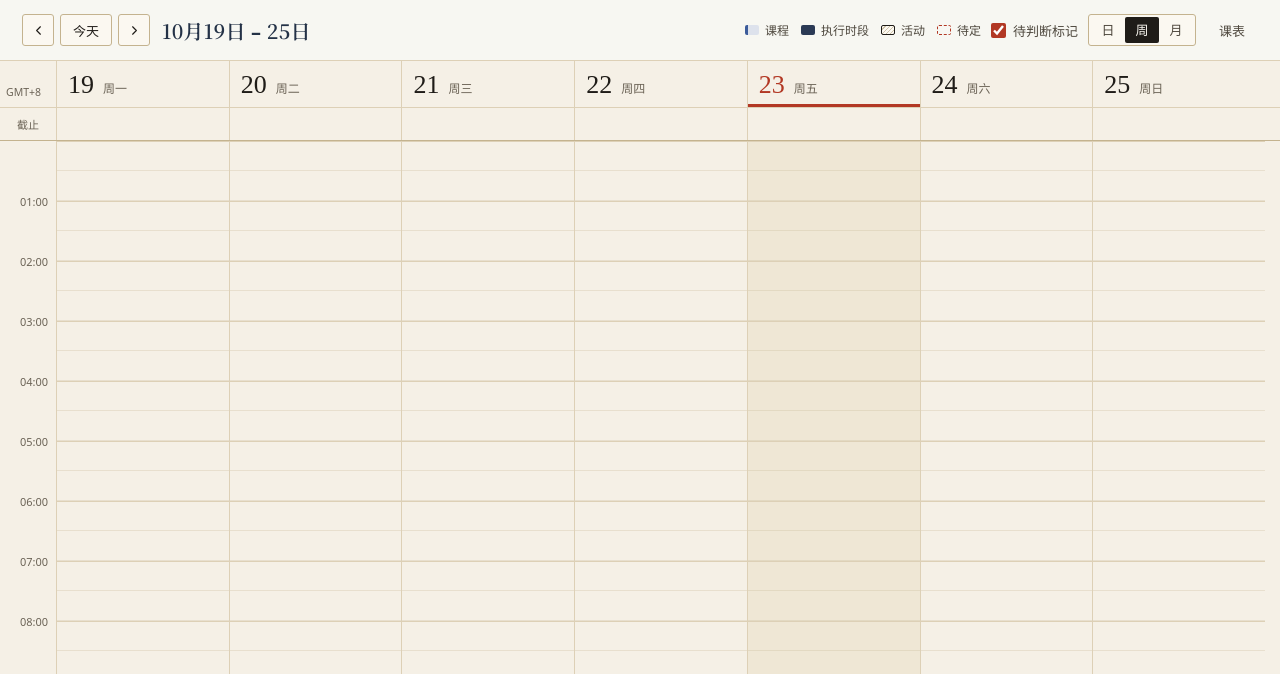
Scenario: personal calendar attention states › renders completed blocks and blocks belonging to completed tasks as quiet history
Click the button "月".
click(1176, 30)  # box 1159,17 -> 1193,43
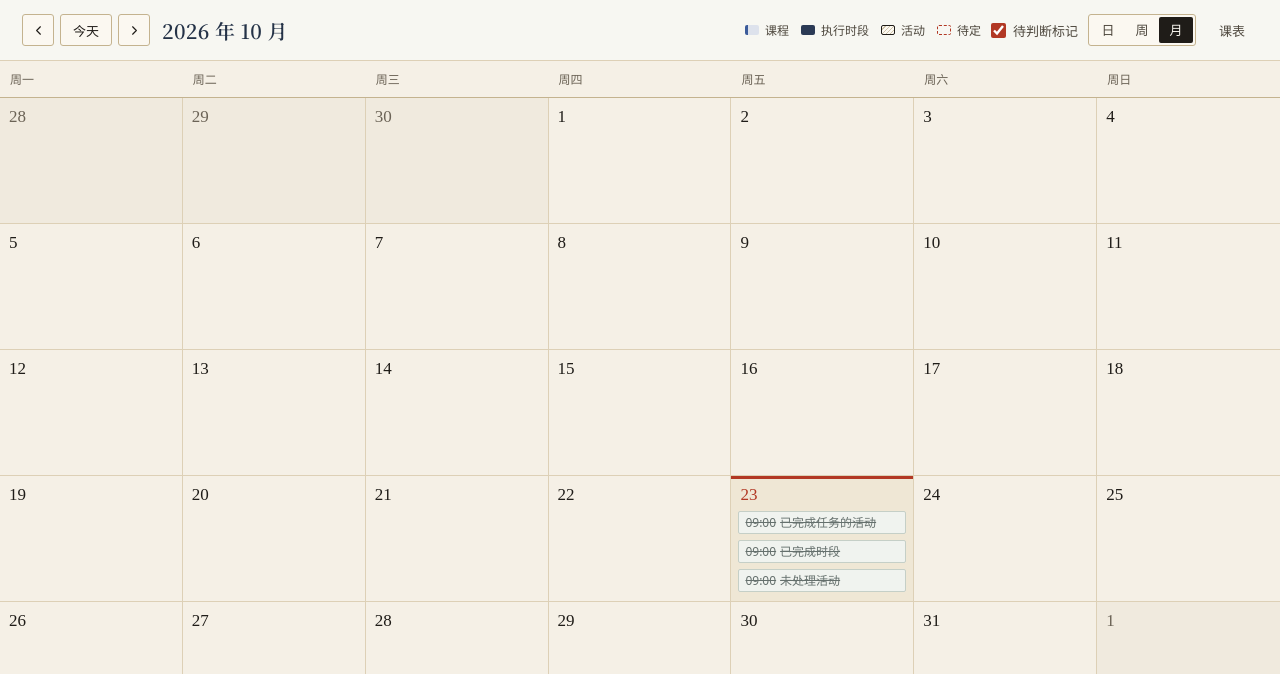
Expected: the number of buttons with class "calendar-completed" is 3, 738,511 -> 906,534; 738,540 -> 906,563; 738,569 -> 906,592
